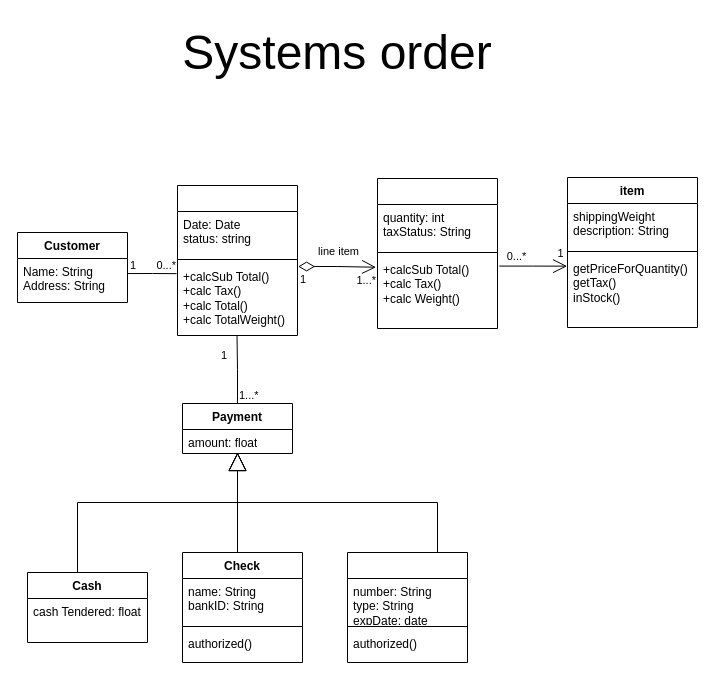
Some shapes in this 715 by 682 pixel diagram are drawn without their labels. Here are the shapes that lost their labels. From the top down, the box of each, then its label:
(176, 184, 298, 336): Order
(376, 178, 498, 328): OrderDetail
(346, 552, 468, 662): Credit
